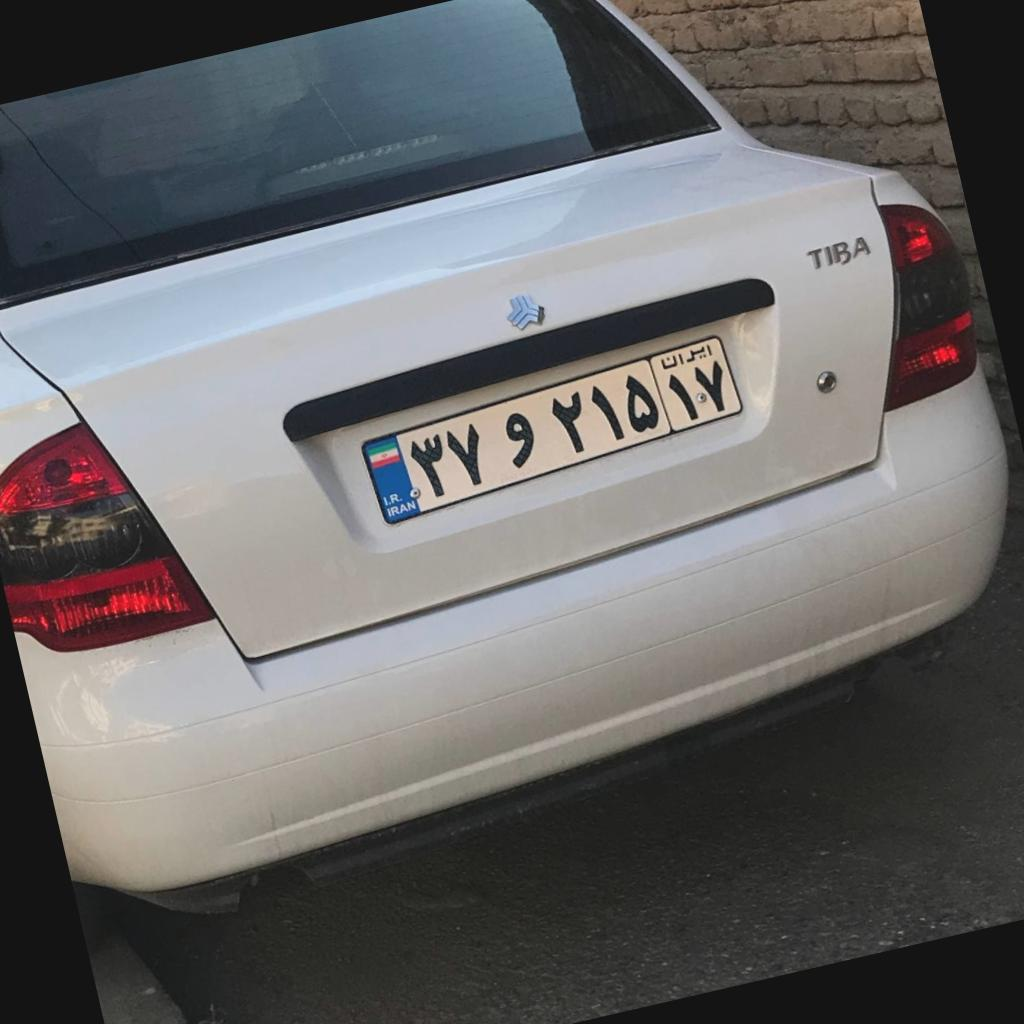Plates: (361, 335, 745, 525)
